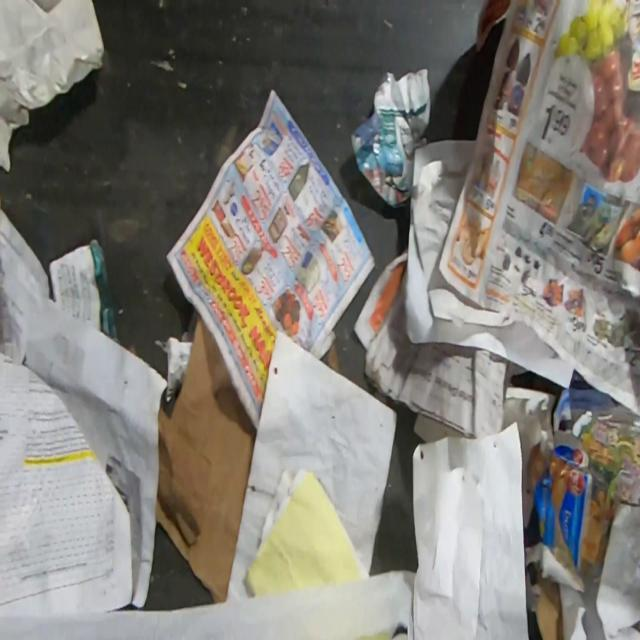cardboard: (154, 314, 258, 606), (524, 428, 595, 639), (320, 341, 341, 376)
